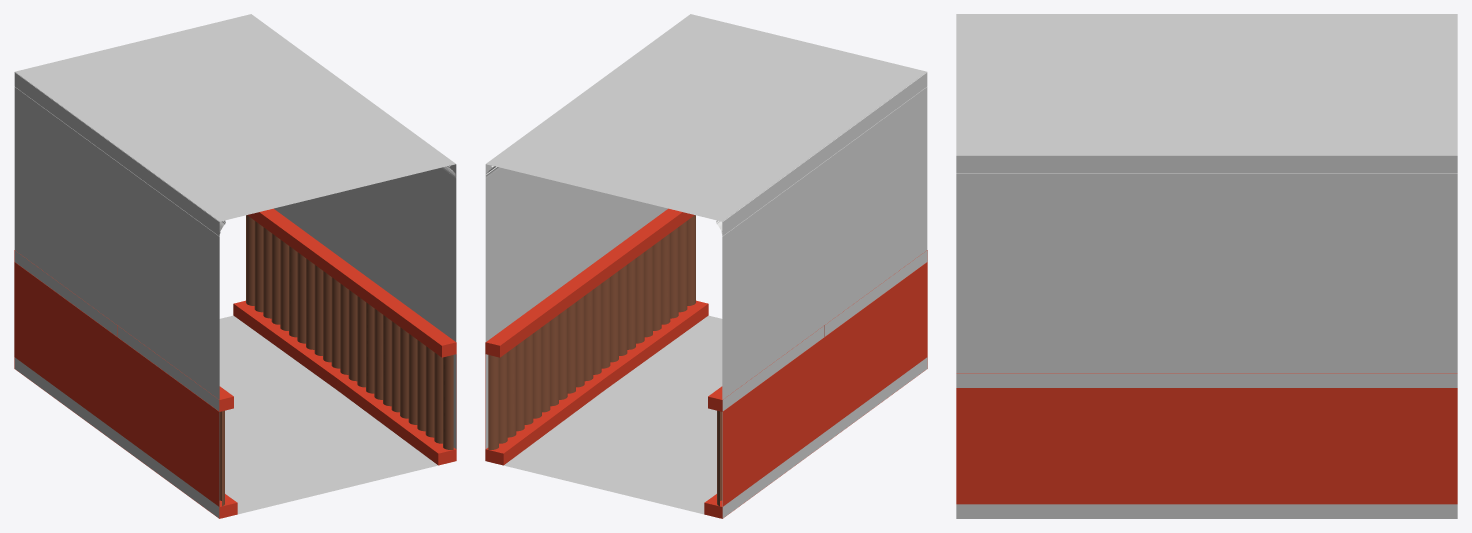
Rendered from Straight.fbx.
3 views of the same model, side by side, from view 1: azimuth 30°, elevation 25°; view 2: azimuth 150°, elevation 25°; view 3: azimuth 270°, elevation 25° (orthographic). The views are drawn at different scales.
Parts seen in each view (by area): view 1: Straight; view 2: Straight; view 3: Straight.
Part boxes in pixels (x1,y1,x2,y2): Straight: (14, 14, 456, 518); Straight: (485, 14, 927, 518); Straight: (956, 14, 1457, 518).
Size of the model in its own units: 2 by 2.4 by 3.
